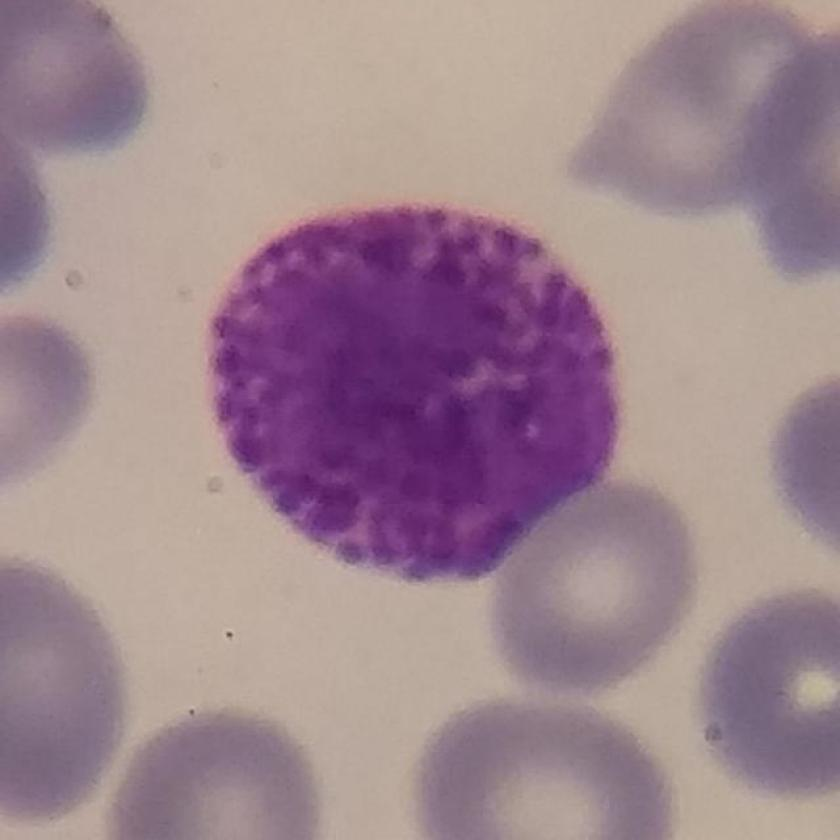basophil: (206, 202, 627, 584)
